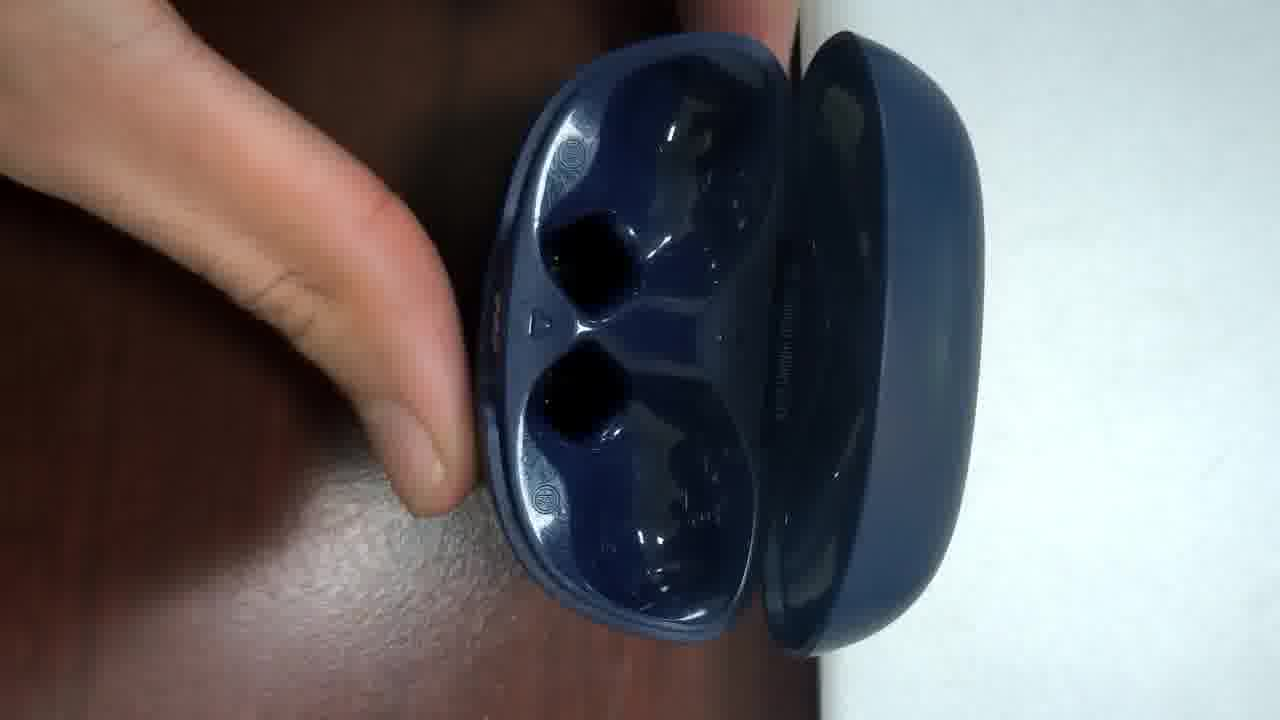Case: (476, 32, 982, 653)
Empty_Slot: (524, 338, 764, 640), (530, 44, 781, 331)
